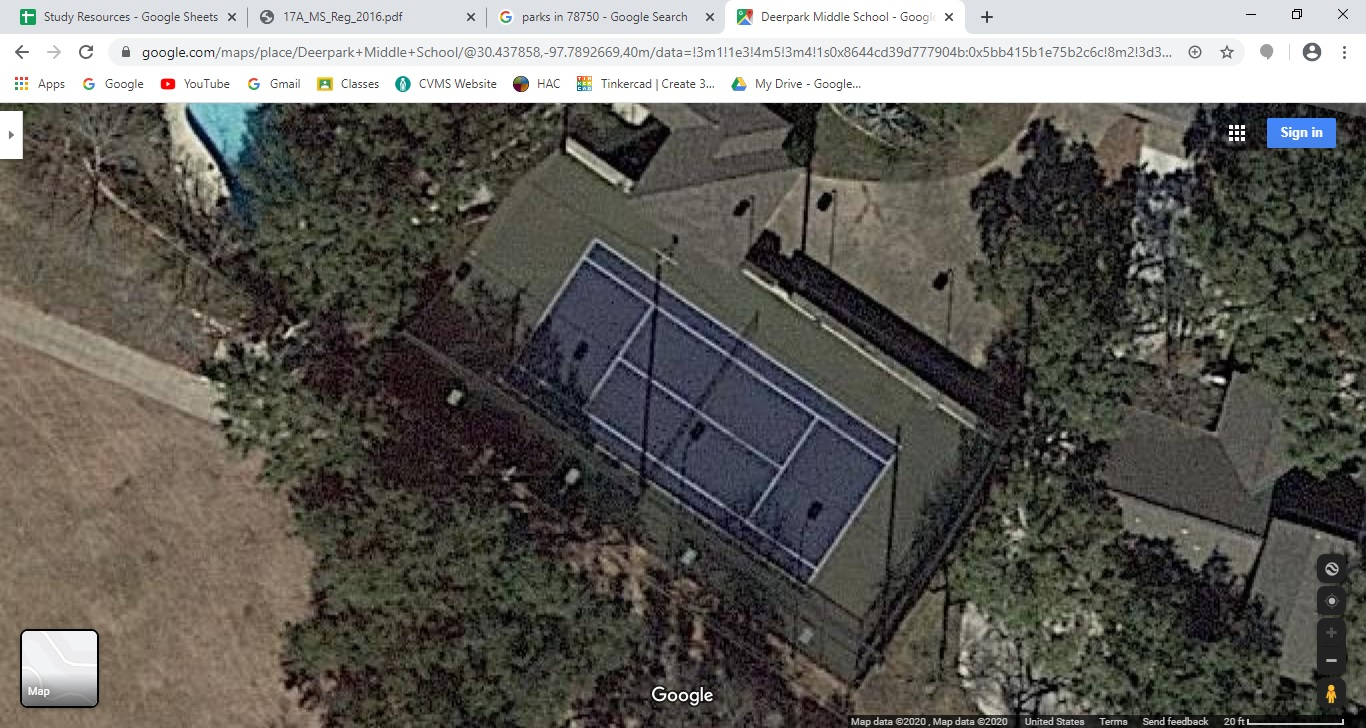tennis: (442, 200, 928, 575)
